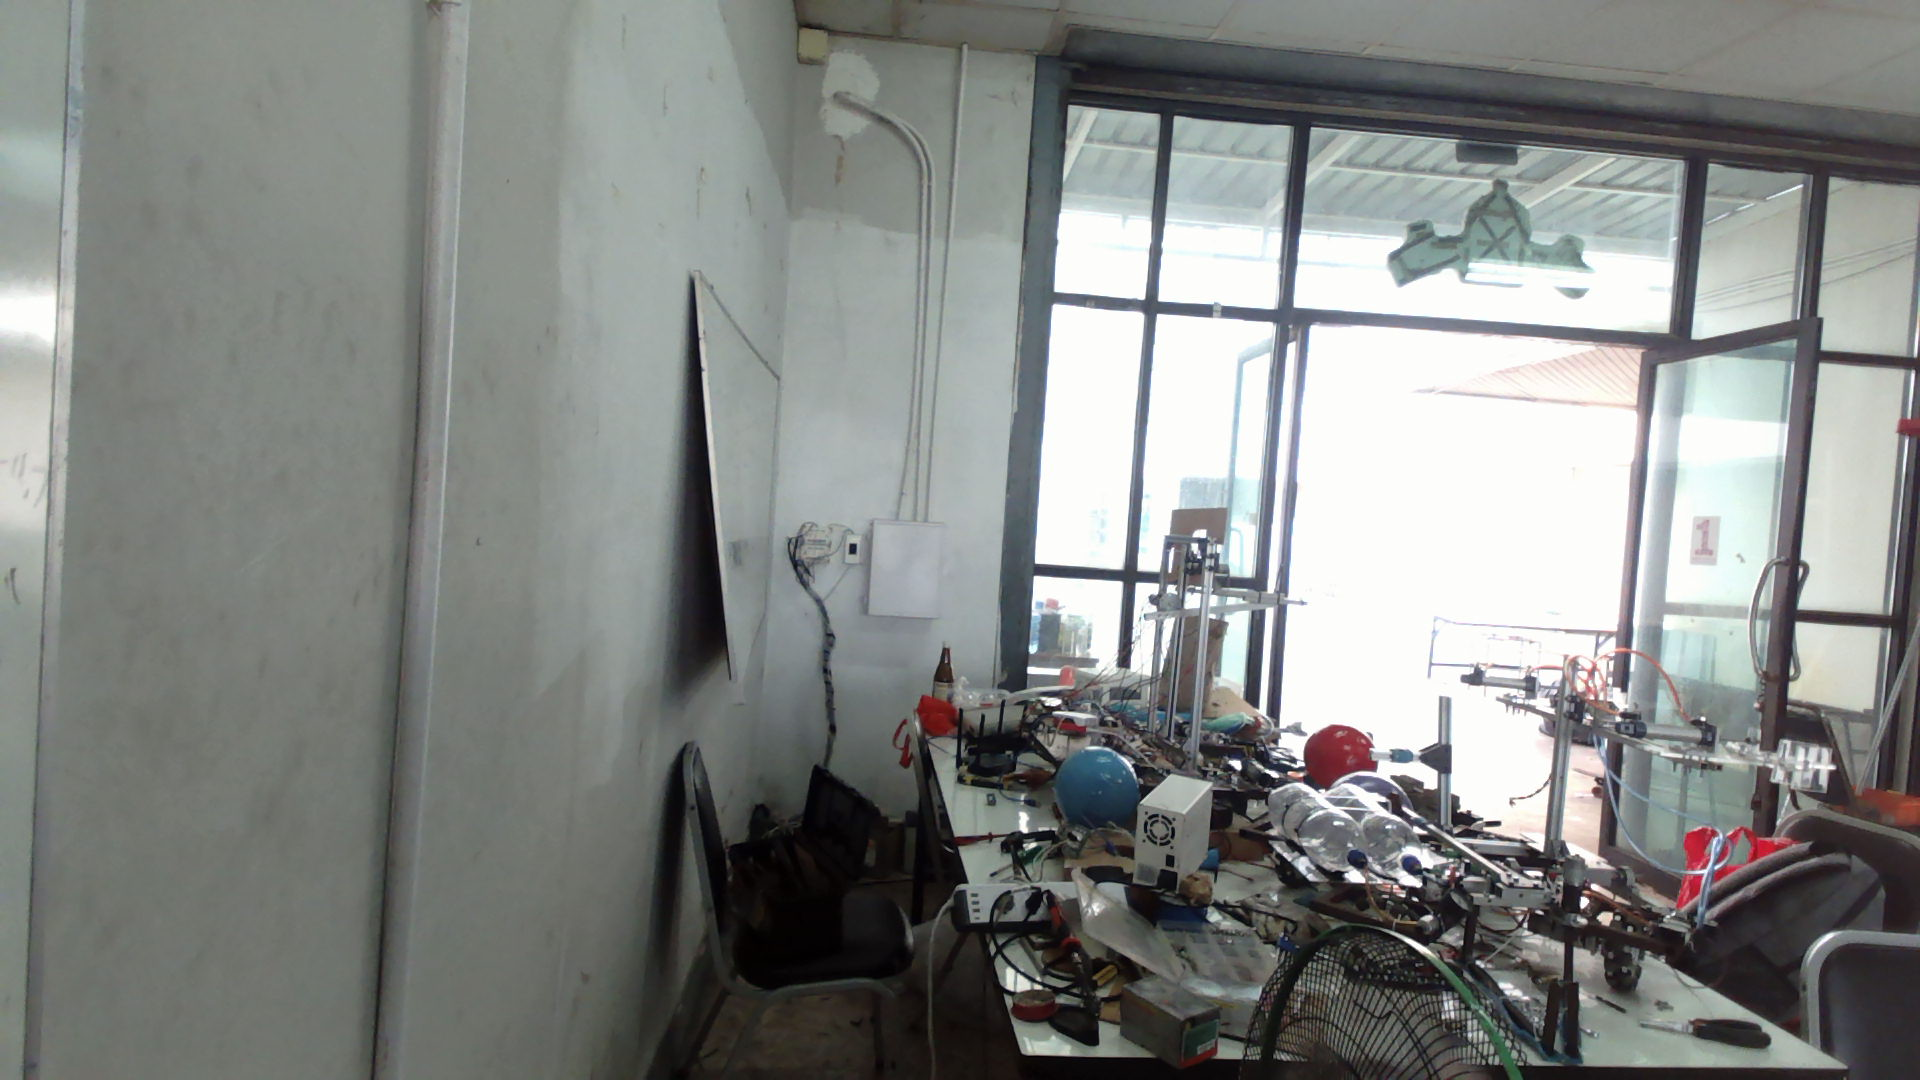Blue ball: (1054, 746, 1141, 825)
Red ball: (1302, 723, 1378, 785)
